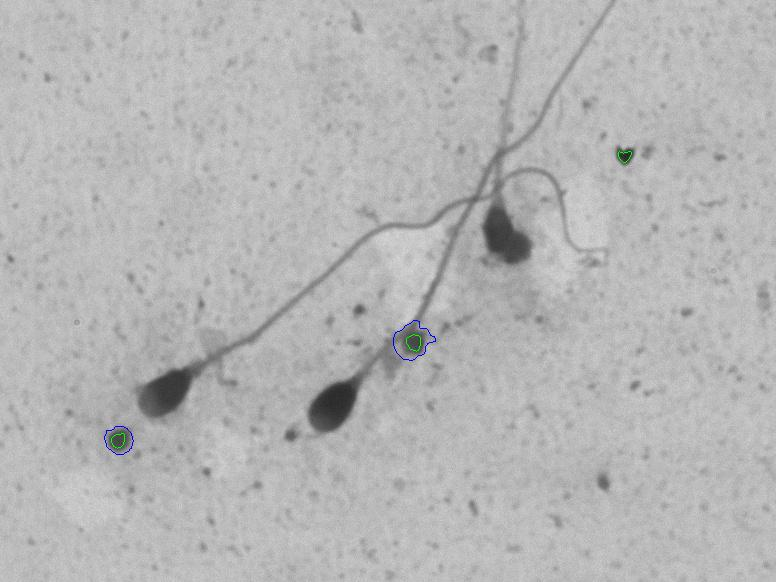Normal: (258, 8, 626, 474), (122, 141, 622, 432)
